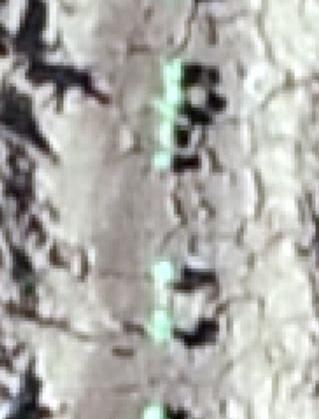cotton: (149, 313, 173, 339), (155, 260, 176, 282), (164, 62, 185, 81), (163, 82, 182, 101), (157, 100, 176, 115), (145, 406, 168, 418), (160, 123, 172, 144), (155, 153, 170, 169)
